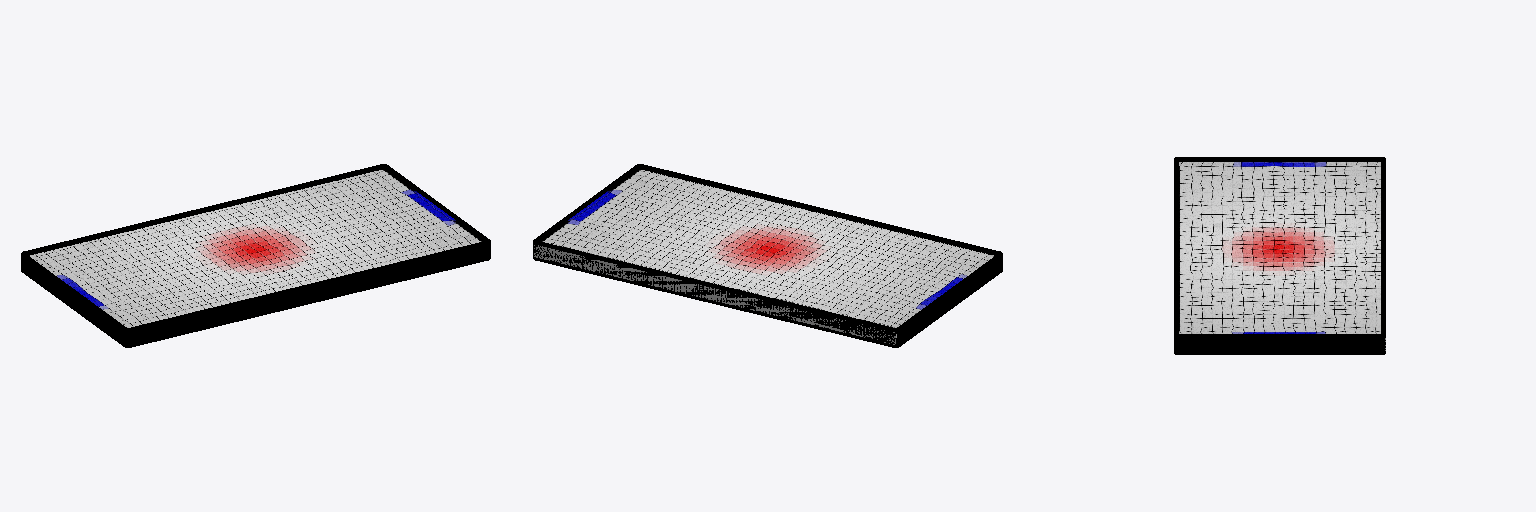
The picture shows the model from 3 angles: view 1: azimuth 30°, elevation 25°; view 2: azimuth 150°, elevation 25°; view 3: azimuth 270°, elevation 25°; orthographic projection.
Parts seen in each view (by area): view 1: Cube_Cube_Material_table2.jpg, Cube.003_Cube.003_Side, Cube.004_Cube.004_Side, Cube.002_Cube.002_Side, Cube.005_Cube.005_Side; view 2: Cube_Cube_Material_table2.jpg, Cube.002_Cube.002_Side, Cube.004_Cube.004_Side, Cube.001_Cube.001, Cube.003_Cube.003_Side, Cube.005_Cube.005_Side; view 3: Cube_Cube_Material_table2.jpg, Cube.005_Cube.005_Side, Cube.004_Cube.004_Side, Cube.003_Cube.003_Side, Cube.002_Cube.002_Side.
Part boxes in pixels (bbox=[...]): Cube_Cube_Material_table2.jpg: bbox=[28, 168, 483, 327]; Cube.003_Cube.003_Side: bbox=[127, 240, 489, 347]; Cube.004_Cube.004_Side: bbox=[21, 253, 126, 347]; Cube.002_Cube.002_Side: bbox=[22, 164, 383, 254]; Cube.005_Cube.005_Side: bbox=[384, 164, 490, 258]; Cube_Cube_Material_table2.jpg: bbox=[540, 168, 995, 327]; Cube.002_Cube.002_Side: bbox=[534, 240, 896, 347]; Cube.004_Cube.004_Side: bbox=[896, 252, 1002, 347]; Cube.001_Cube.001: bbox=[534, 245, 896, 344]; Cube.003_Cube.003_Side: bbox=[639, 164, 1000, 254]; Cube.005_Cube.005_Side: bbox=[533, 164, 639, 258]; Cube_Cube_Material_table2.jpg: bbox=[1177, 162, 1382, 333]; Cube.005_Cube.005_Side: bbox=[1175, 334, 1384, 354]; Cube.004_Cube.004_Side: bbox=[1175, 157, 1384, 161]; Cube.003_Cube.003_Side: bbox=[1174, 158, 1176, 353]; Cube.002_Cube.002_Side: bbox=[1383, 158, 1385, 353].
Bounding box in the file's own units: 60.4 × 3 × 30.4.
3 materials, 1 textured.